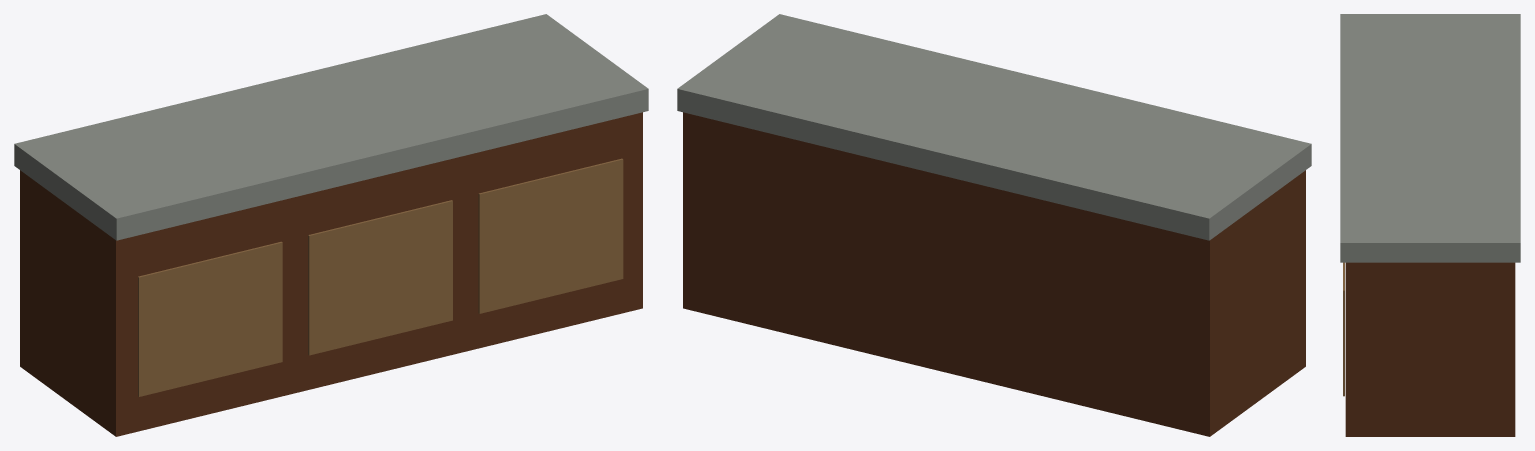
Rendered from service_desk.glb.
3 views of the same model, side by side, from view 1: azimuth 30°, elevation 25°; view 2: azimuth 150°, elevation 25°; view 3: azimuth 270°, elevation 25° (orthographic). The views are drawn at different scales.
Visible parts, largest first — view 1: body; view 2: body; view 3: body.
Boxes of the visible parts, x1,y1,x2,y2 form: body: [14, 14, 648, 436]; body: [677, 14, 1311, 436]; body: [1340, 14, 1520, 436].
Bounding box in the file's own units: 2.4 × 0.9525 × 0.798.
Materials: 1 (1 with a texture image).
